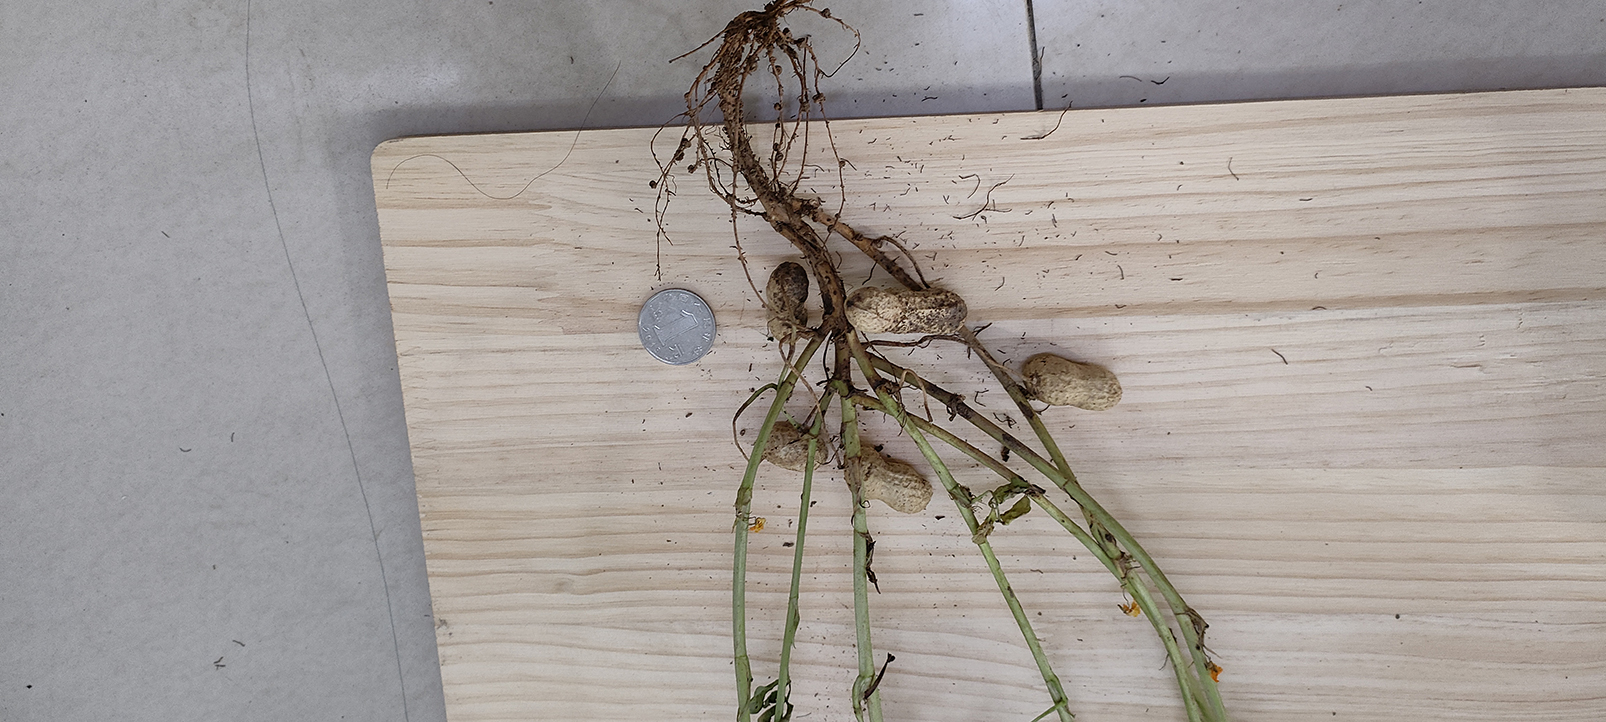h: (845, 284, 968, 336), (1023, 352, 1121, 412), (853, 445, 933, 512), (764, 425, 830, 472)
l: (765, 264, 806, 339)
